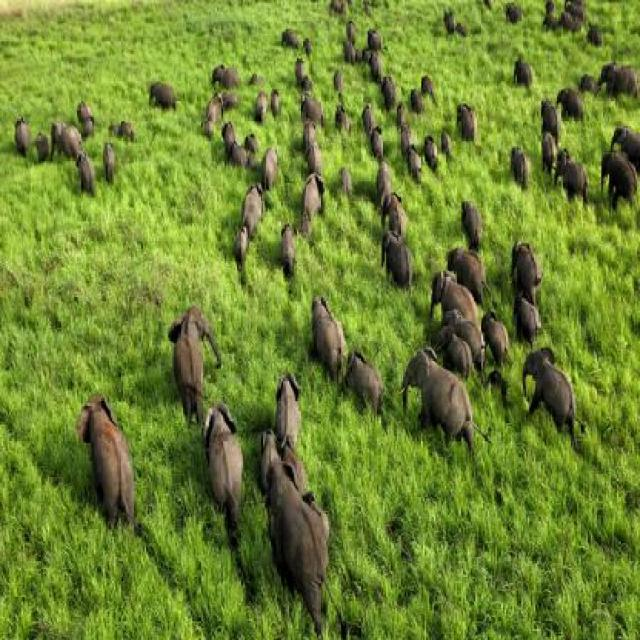elephant: (263, 458, 339, 607), (405, 335, 481, 440), (78, 382, 138, 510), (198, 376, 236, 559), (164, 293, 219, 401), (520, 347, 585, 433), (339, 343, 392, 420), (306, 283, 349, 375), (268, 366, 306, 451), (602, 141, 638, 225), (439, 269, 478, 343), (511, 230, 546, 308), (448, 306, 481, 382), (552, 146, 590, 212), (379, 231, 416, 289), (449, 241, 489, 294), (72, 128, 100, 202), (276, 213, 299, 298), (458, 185, 488, 250), (335, 155, 362, 223), (375, 148, 400, 218), (598, 52, 637, 96), (442, 325, 468, 390), (534, 83, 561, 145), (508, 282, 542, 330), (257, 421, 286, 476), (55, 110, 88, 158), (612, 111, 640, 167), (241, 179, 265, 239), (329, 97, 357, 145), (512, 138, 536, 194), (536, 130, 555, 192), (578, 65, 602, 113), (288, 426, 307, 486), (304, 172, 325, 226), (143, 72, 171, 112), (450, 104, 475, 148), (388, 190, 410, 238), (80, 94, 102, 140), (6, 114, 31, 154), (515, 49, 534, 100), (200, 82, 218, 135), (98, 129, 113, 189), (390, 88, 405, 144), (540, 4, 562, 42), (482, 313, 508, 345), (29, 125, 54, 158), (245, 92, 270, 125), (278, 22, 305, 52), (222, 136, 252, 162), (422, 130, 446, 162), (210, 51, 238, 78), (434, 6, 454, 42), (366, 123, 386, 159), (264, 135, 281, 177), (361, 83, 376, 129), (246, 67, 268, 96), (408, 73, 427, 105), (380, 66, 395, 106), (298, 146, 328, 166), (234, 229, 252, 262), (493, 2, 522, 22), (420, 68, 434, 108), (562, 84, 576, 124), (408, 141, 421, 184), (243, 129, 266, 153), (300, 92, 322, 117), (360, 52, 385, 73), (115, 121, 136, 144), (399, 112, 412, 148), (270, 81, 284, 113), (332, 64, 346, 96), (432, 122, 454, 142), (348, 38, 362, 67), (294, 58, 309, 84), (555, 18, 579, 34), (342, 38, 358, 61), (226, 115, 237, 148), (300, 39, 315, 61), (585, 22, 600, 44), (570, 3, 587, 22), (222, 90, 236, 110), (308, 109, 314, 154), (342, 22, 356, 40), (341, 0, 353, 20), (368, 32, 380, 49), (362, 3, 376, 17), (325, 0, 338, 14), (459, 22, 466, 41), (543, 0, 554, 12)
